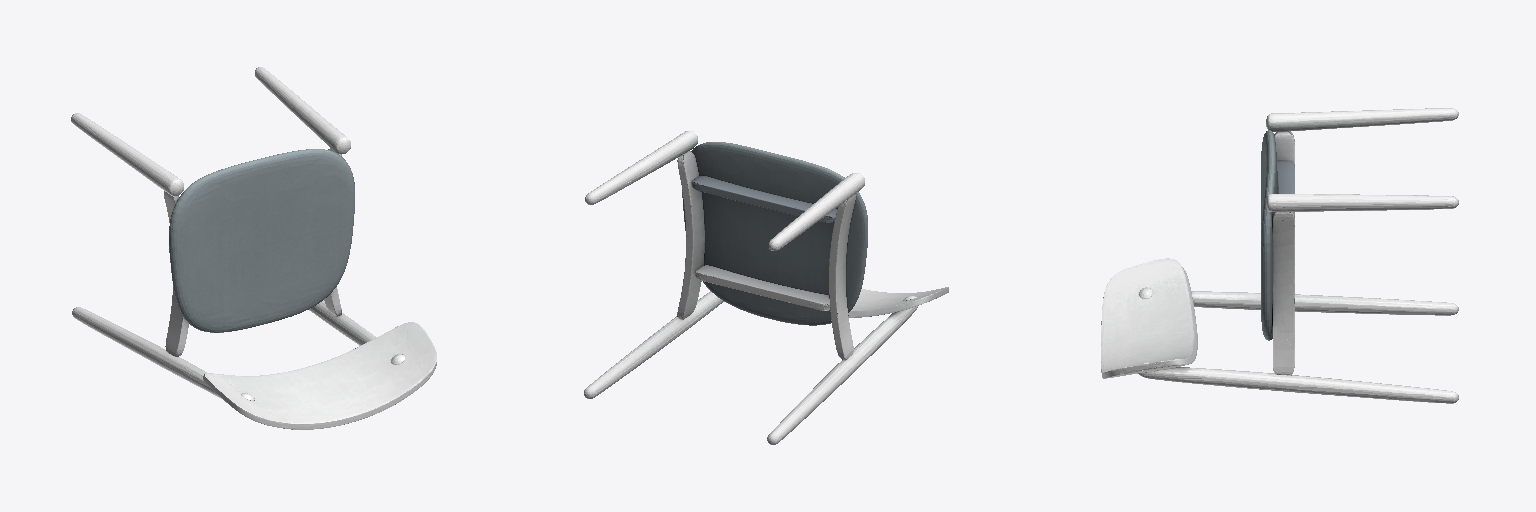
The picture shows the model from 3 angles: view 1: azimuth 30°, elevation 25°; view 2: azimuth 150°, elevation 25°; view 3: azimuth 270°, elevation 25°; orthographic projection.
Size of the model in its own units: 0.5483 by 0.5088 by 0.7968.
Materials: 1 (1 with a texture image).